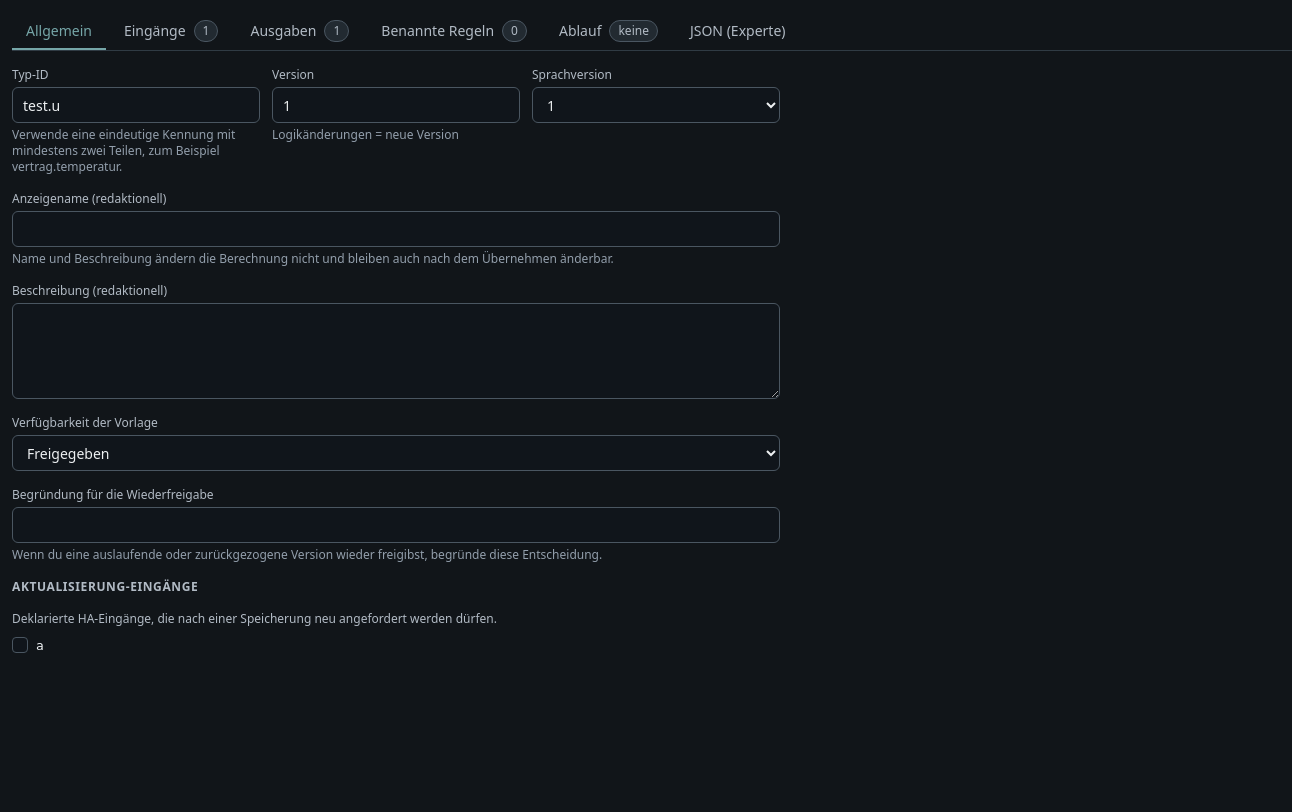
Test case: operators beyond the example › an unknown operator is shown and preserved, never dropped
Click the tab "Ausgaben 1".
click(300, 31)  # box top-left (236, 12), bottom-right (363, 50)
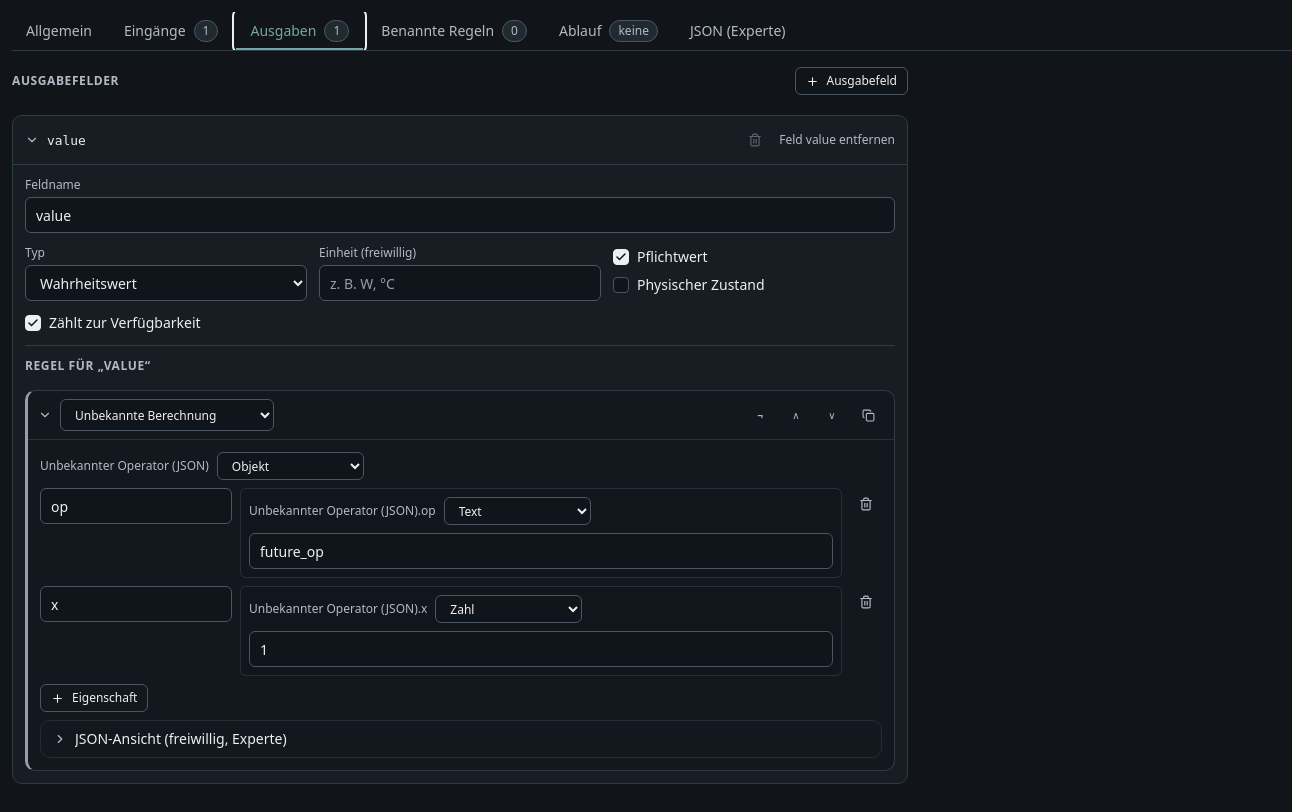
Expected: the dropdown named "Operator" shows "Unbekannte Berechnung", top-left (60, 399), bottom-right (274, 431)
Expected: the text "Unbekannter Operator (JSON)" is shown, top-left (40, 458), bottom-right (209, 474)
